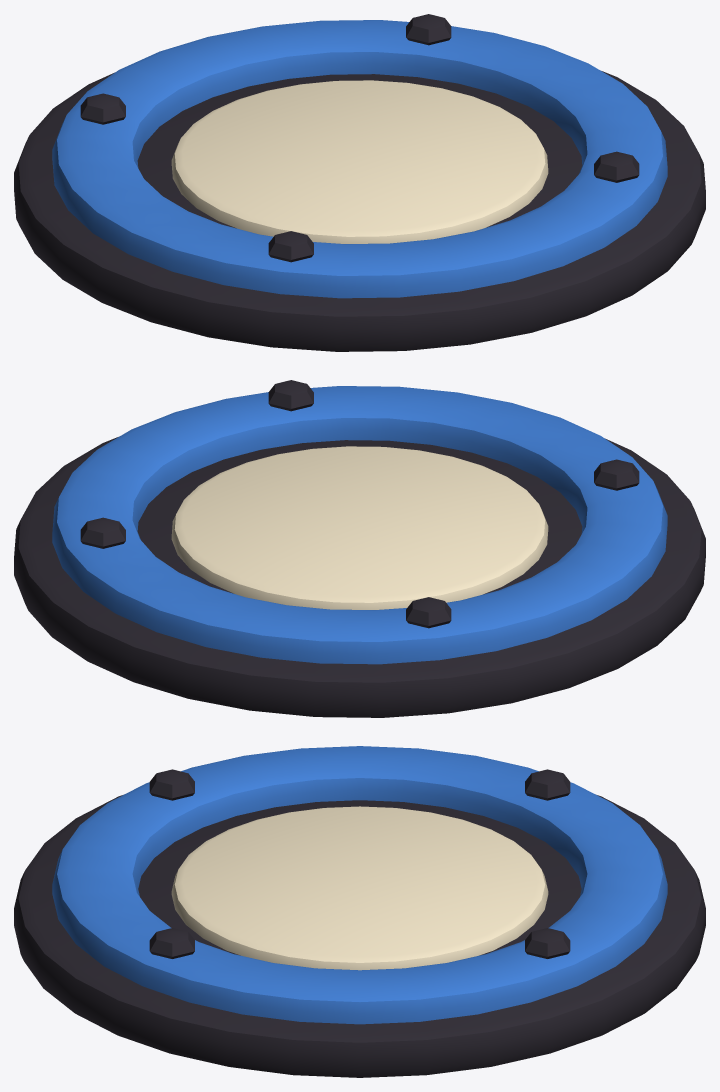
Rendered from spawn_pad.glb.
The picture shows the model from 3 angles, top to bottom: view 1: azimuth 30°, elevation 25°; view 2: azimuth 150°, elevation 25°; view 3: azimuth 270°, elevation 25°; orthographic projection.
Visible parts, largest first — view 1: spawn_pad; view 2: spawn_pad; view 3: spawn_pad.
Boxes of the visible parts, <box> form: spawn_pad: <box>14,14,705,351</box>; spawn_pad: <box>14,380,705,717</box>; spawn_pad: <box>14,746,705,1077</box>.
Bounding box in the file's own units: 0.9 × 0.1204 × 0.9.
